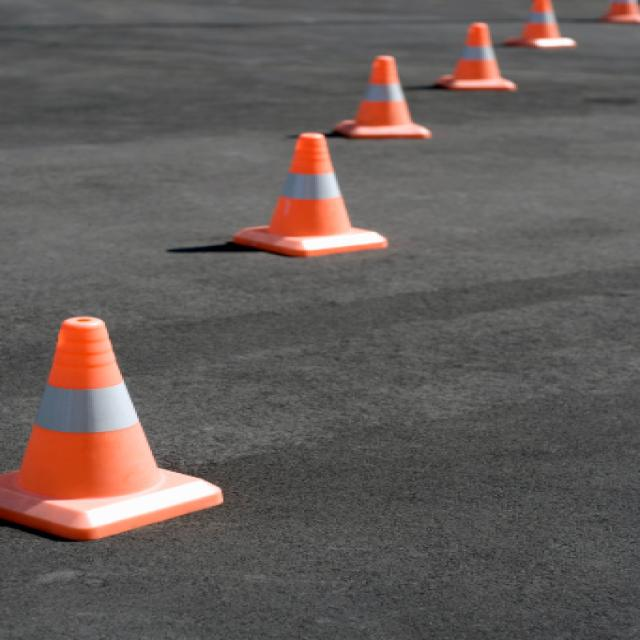cone: (6, 316, 225, 538), (227, 132, 387, 256), (334, 52, 432, 140), (433, 19, 520, 93)
